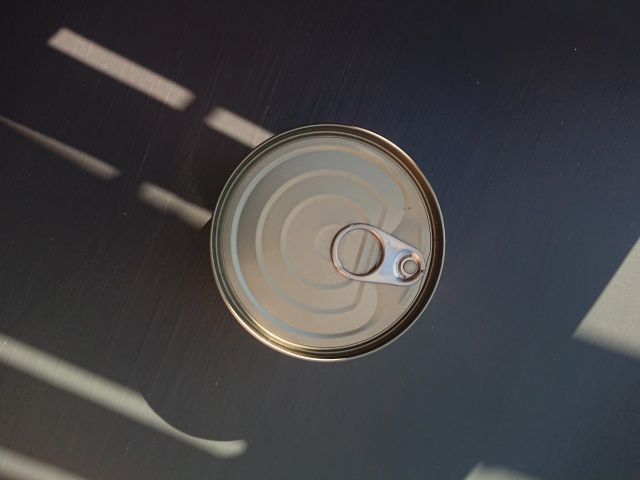Giana Tuna Salad Mexico 185g: (206, 121, 450, 367)
